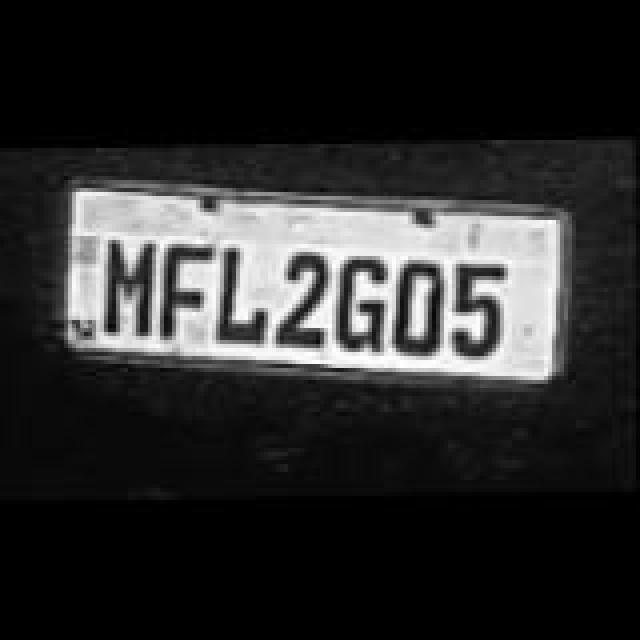2: (278, 250, 334, 350)
5: (454, 264, 510, 364)
D: (394, 260, 450, 360)
F: (160, 244, 220, 344)
G: (340, 258, 392, 358)
L: (214, 248, 270, 348)
M: (102, 238, 158, 338)
